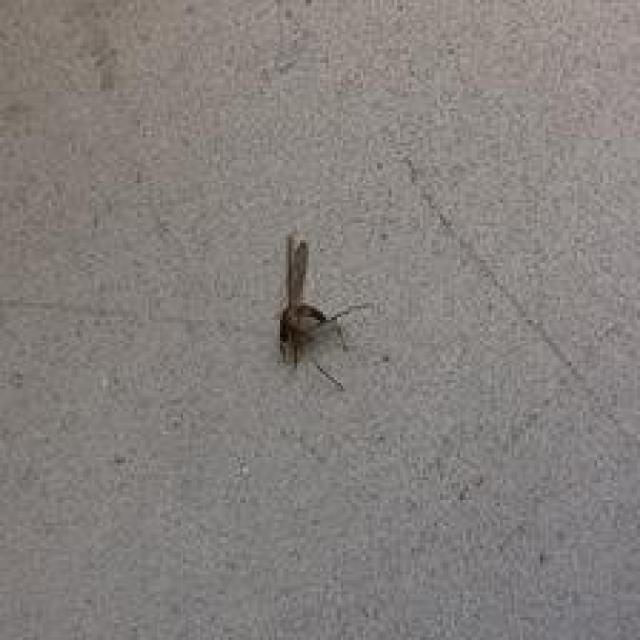Culex: (273, 232, 370, 392)
